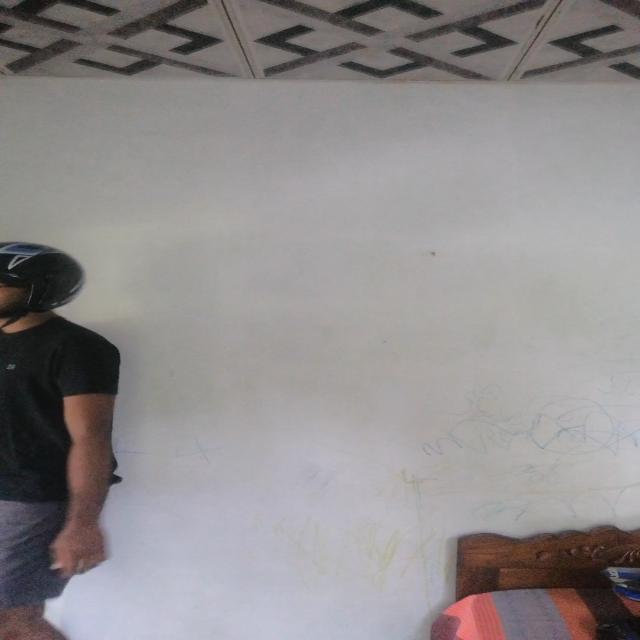Helmet_Wearer: (0, 242, 95, 344)
Person: (0, 238, 117, 640)
